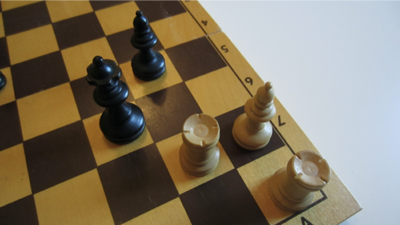black-bishop: (131, 10, 167, 82)
black-queen: (85, 55, 147, 144)
white-bishop: (233, 81, 277, 152)
white-rook: (269, 150, 332, 213), (178, 113, 221, 178)
